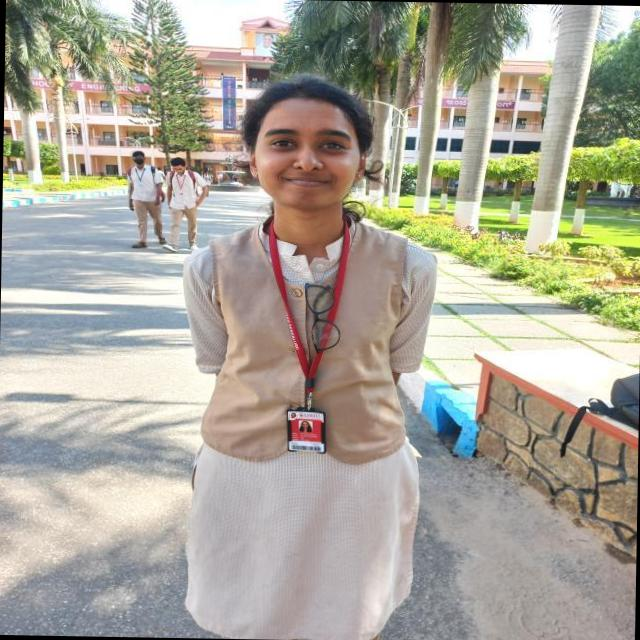id_card: (263, 222, 350, 455)
